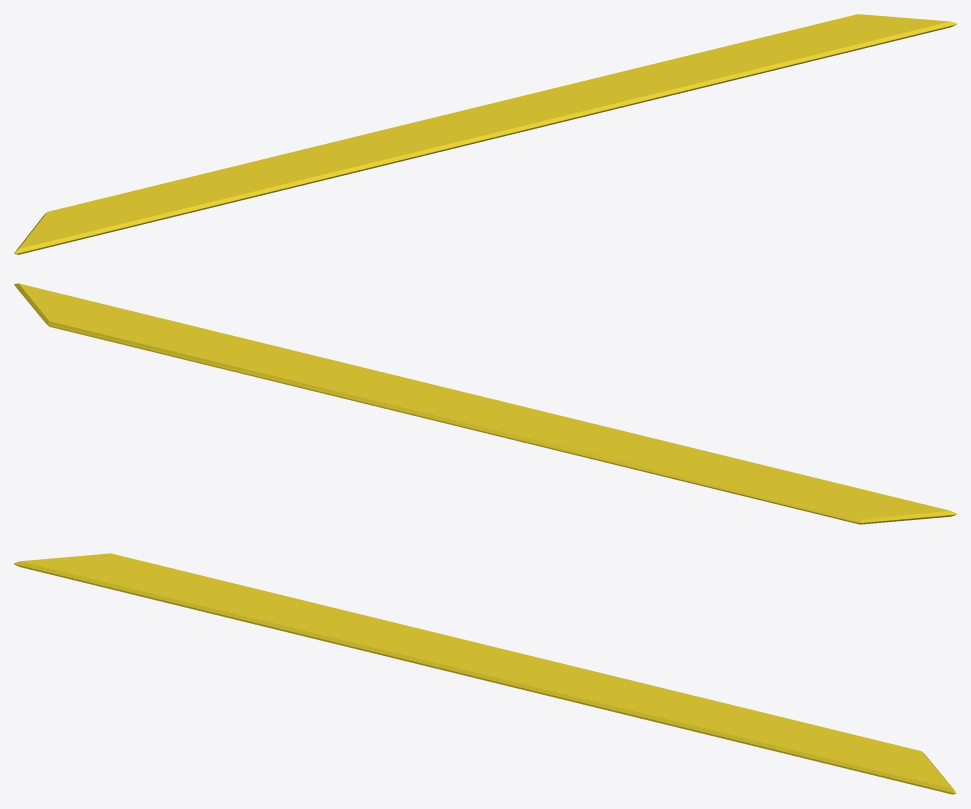
Rendered from Platform.fbx.
3 views of the same model, one above another, from view 1: azimuth 30°, elevation 25°; view 2: azimuth 150°, elevation 25°; view 3: azimuth 330°, elevation 25° (orthographic).
Visible parts, largest first — view 1: Cube.007; view 2: Cube.007; view 3: Cube.007.
Boxes of the visible parts, x1,y1,x2,y2 form: Cube.007: [14, 14, 956, 254]; Cube.007: [14, 283, 956, 524]; Cube.007: [14, 553, 956, 794].
Bounding box in the file's own units: 1304 × 7.69 × 81.61.
